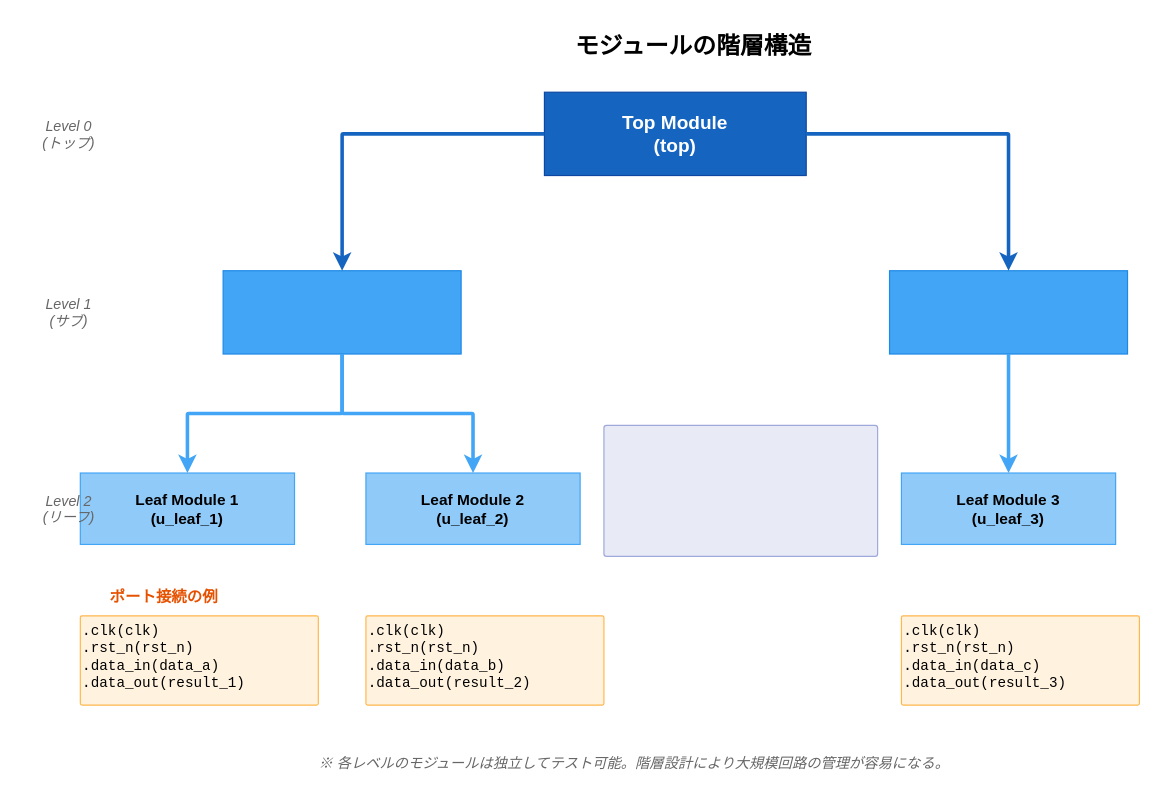
Some shapes in this 1160 by 802 pixel diagram are drawn without their labels. The centre of each missing label's shape, as x and y in pixels:
"Sub Module A (u_sub_a)" goes at point 341,312.
"Sub Module B (u_sub_b)" goes at point 1008,312.
"インスタンス化の例: sub_module_a u_sub_a ( .clk(clk), .rst_n(rst_n), ... );" goes at point 740,490.
